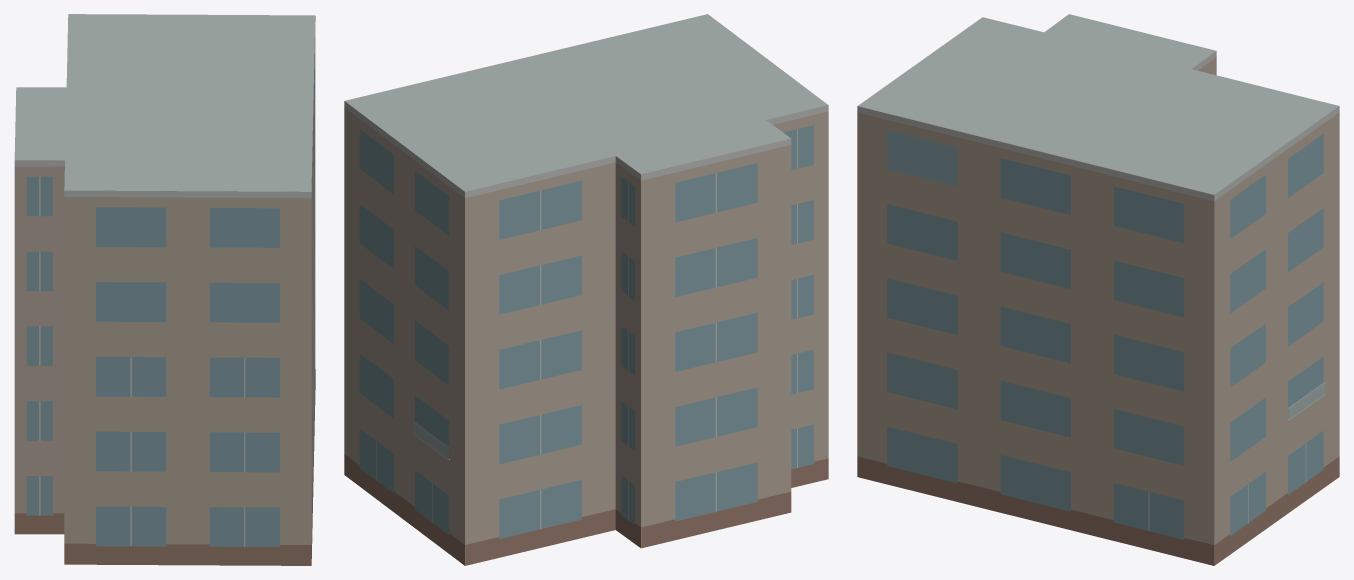
Rendered from survey-upis-32715569.glb.
3 renders of one model, left to right at view 1: azimuth 30°, elevation 25°; view 2: azimuth 150°, elevation 25°; view 3: azimuth 270°, elevation 25°, orthographic.
Parts seen in each view (by area): view 1: survey-upis-32715569.tmp; view 2: survey-upis-32715569.tmp; view 3: survey-upis-32715569.tmp.
Boxes of the visible parts, x1,y1,x2,y2 form: survey-upis-32715569.tmp: (14, 14, 315, 565); survey-upis-32715569.tmp: (344, 14, 828, 565); survey-upis-32715569.tmp: (857, 14, 1339, 565).
Bounding box in the file's own units: 15.07 × 14.4 × 16.97.
